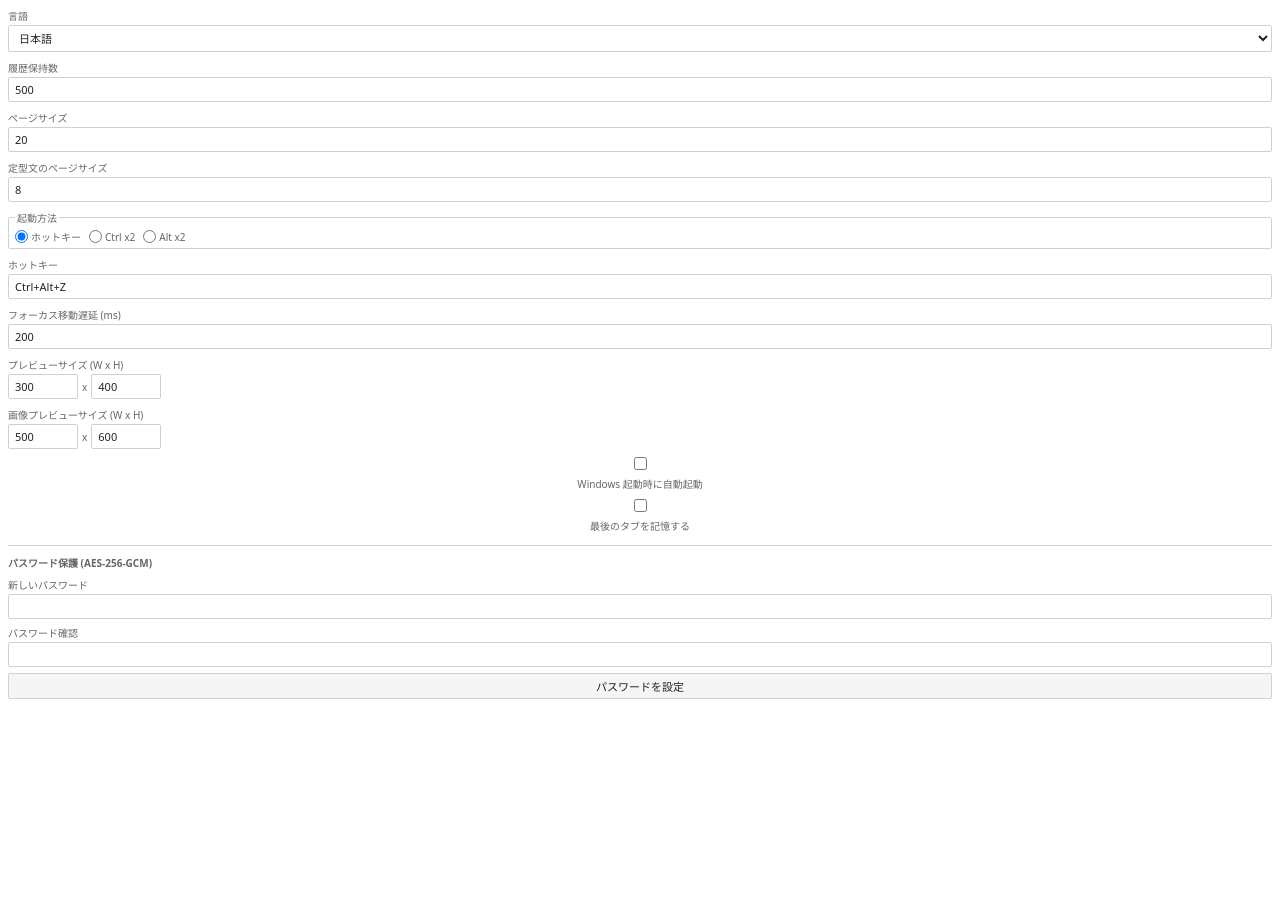
SettingsView › password flow when requirePassword=false › sets password successfully
In the password field labelled "新しいパスワード": x=640, y=606 top-left (8, 594), bottom-right (1272, 619), type "abc123"
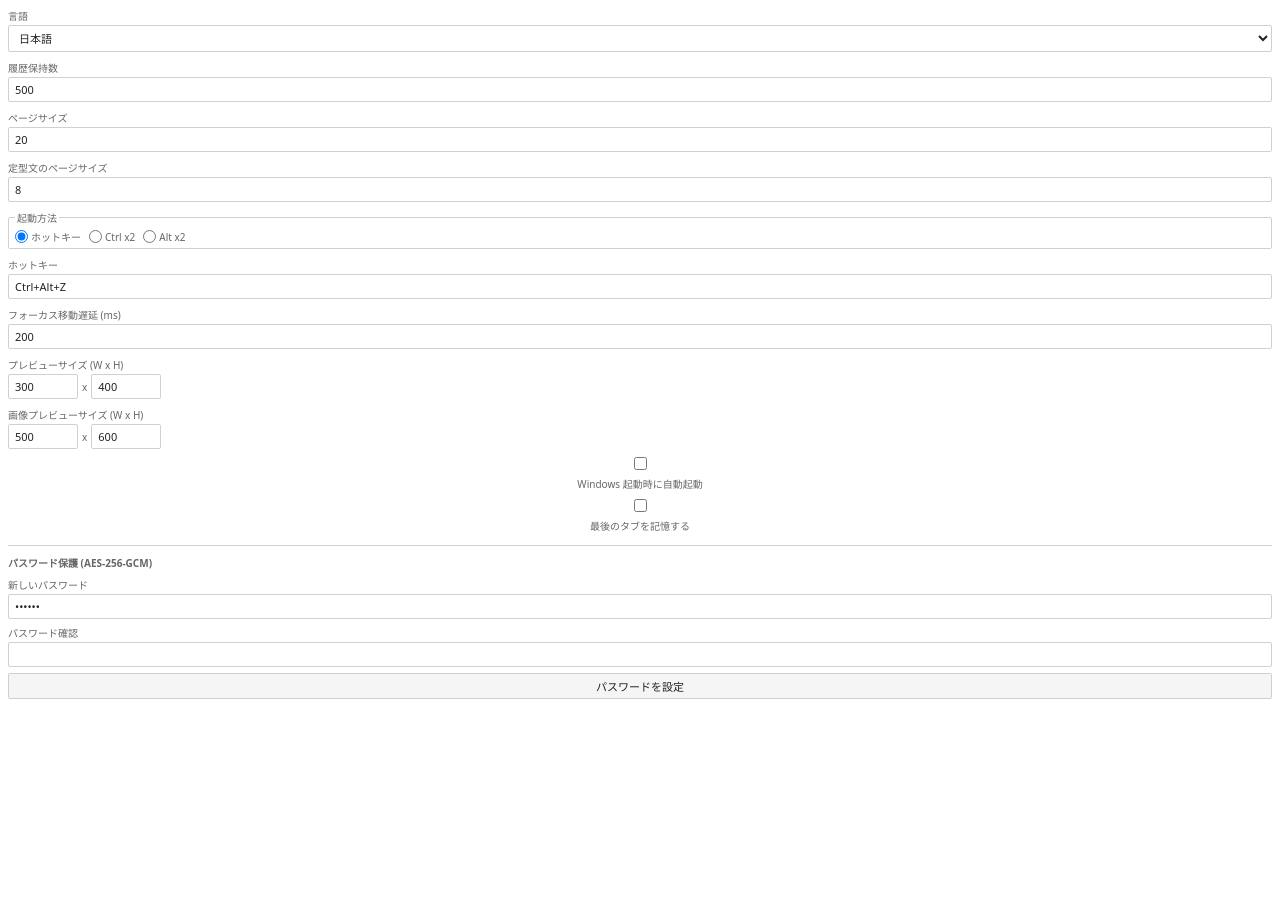
In the password field labelled "パスワード確認": x=640, y=654 top-left (8, 642), bottom-right (1272, 667), type "abc123"
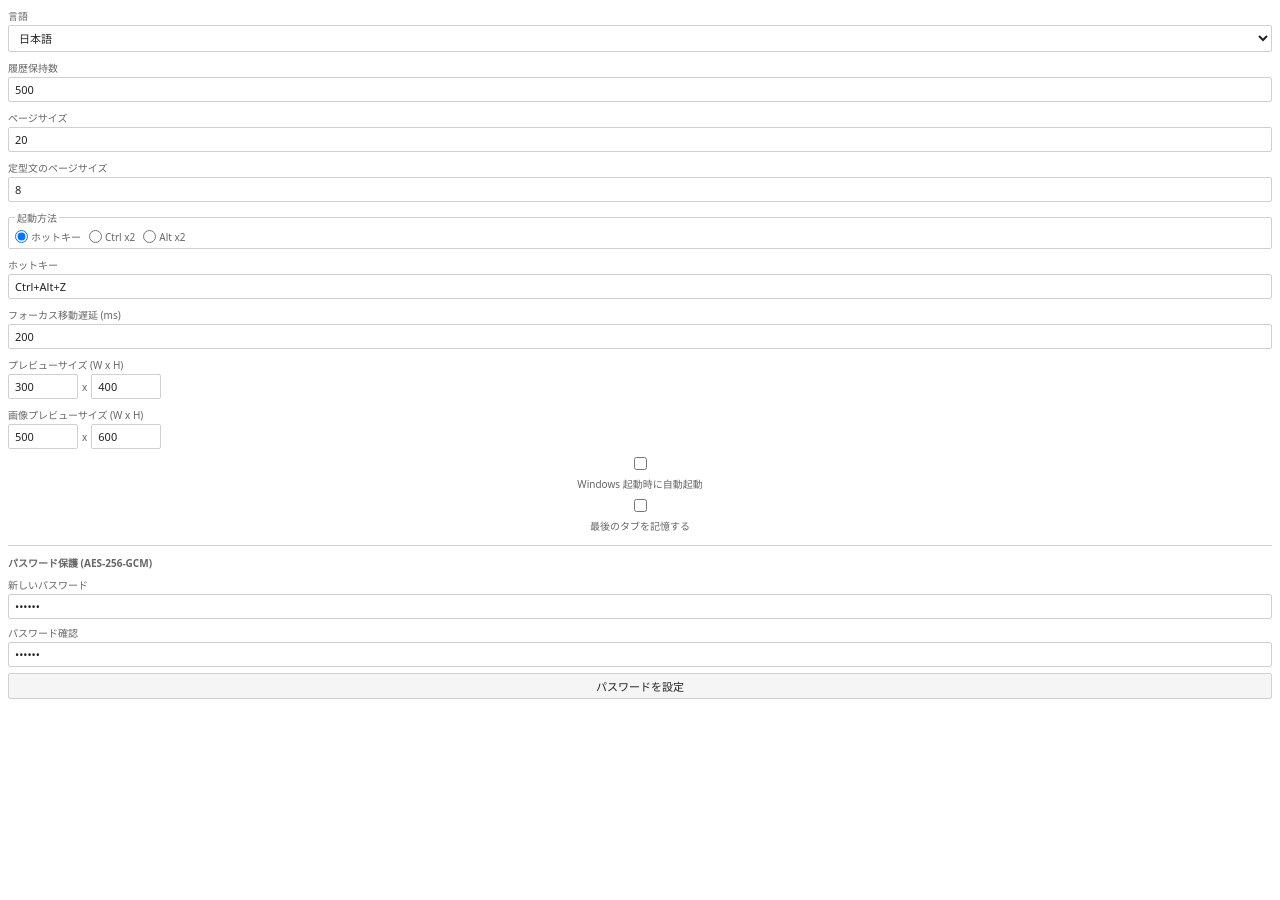
Click the button "パスワードを設定": x=640, y=686 top-left (8, 673), bottom-right (1272, 699)
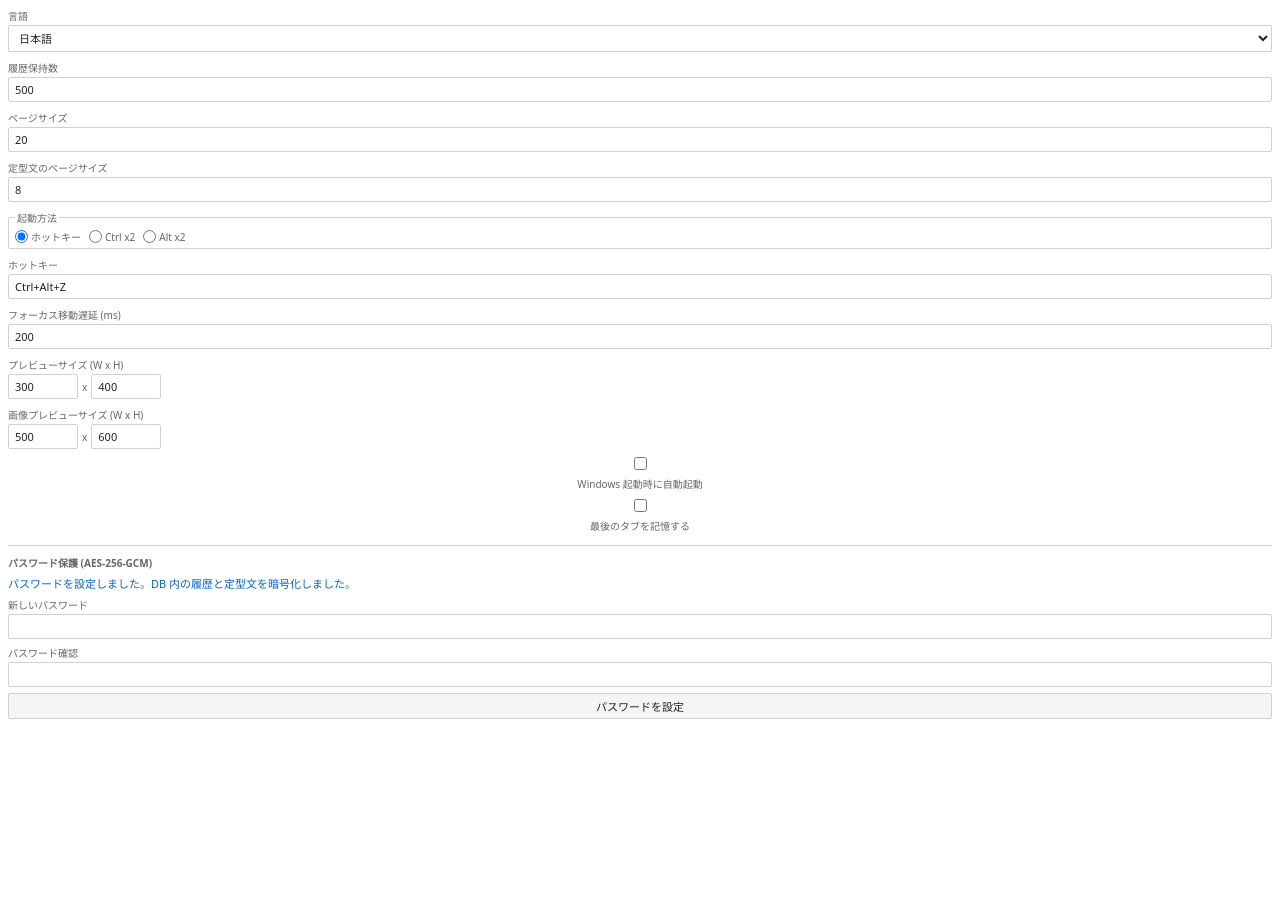
Check: the text "パスワードを設定しました。DB 内の履歴と定型文を暗号化しました。" is shown, box top-left (8, 576), bottom-right (356, 591)
Check: the password field labelled "新しいパスワード" is empty, box top-left (8, 614), bottom-right (1272, 639)
Check: the password field labelled "パスワード確認" is empty, box top-left (8, 662), bottom-right (1272, 687)
